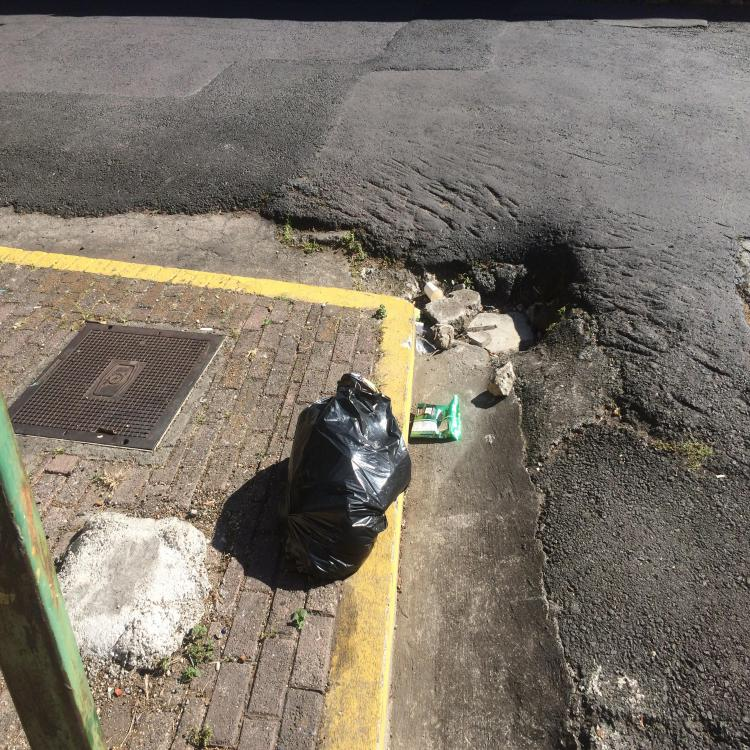Cigarette: (716, 474, 725, 478)
Garbage bag: (274, 373, 412, 581)
Other plastic wrapper: (415, 336, 436, 354)
Paper cup: (424, 282, 444, 302)
